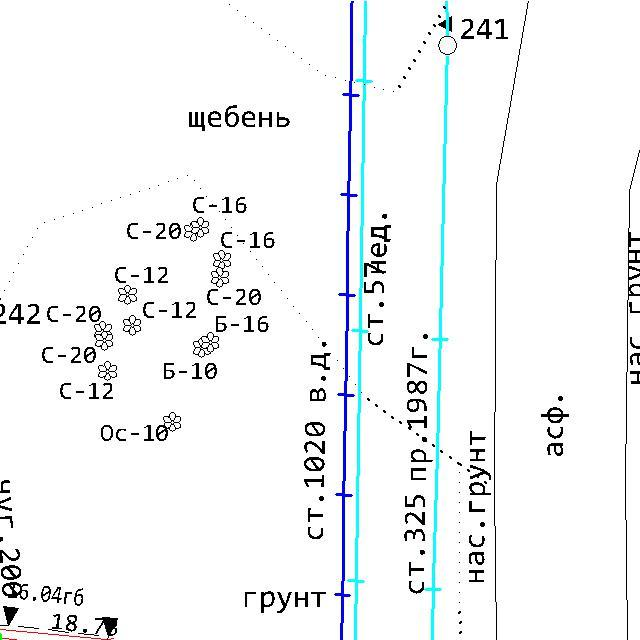asphalt: (540, 395, 570, 457)
bushes: (116, 283, 139, 307), (162, 410, 183, 434), (209, 266, 231, 288), (190, 215, 210, 239), (211, 248, 232, 270), (200, 331, 220, 354), (122, 314, 142, 336), (98, 360, 118, 382), (95, 329, 114, 351), (192, 337, 210, 358), (94, 319, 112, 337), (184, 221, 198, 243)
mark: (100, 614, 120, 639), (2, 604, 20, 627)
well: (436, 33, 459, 58)
